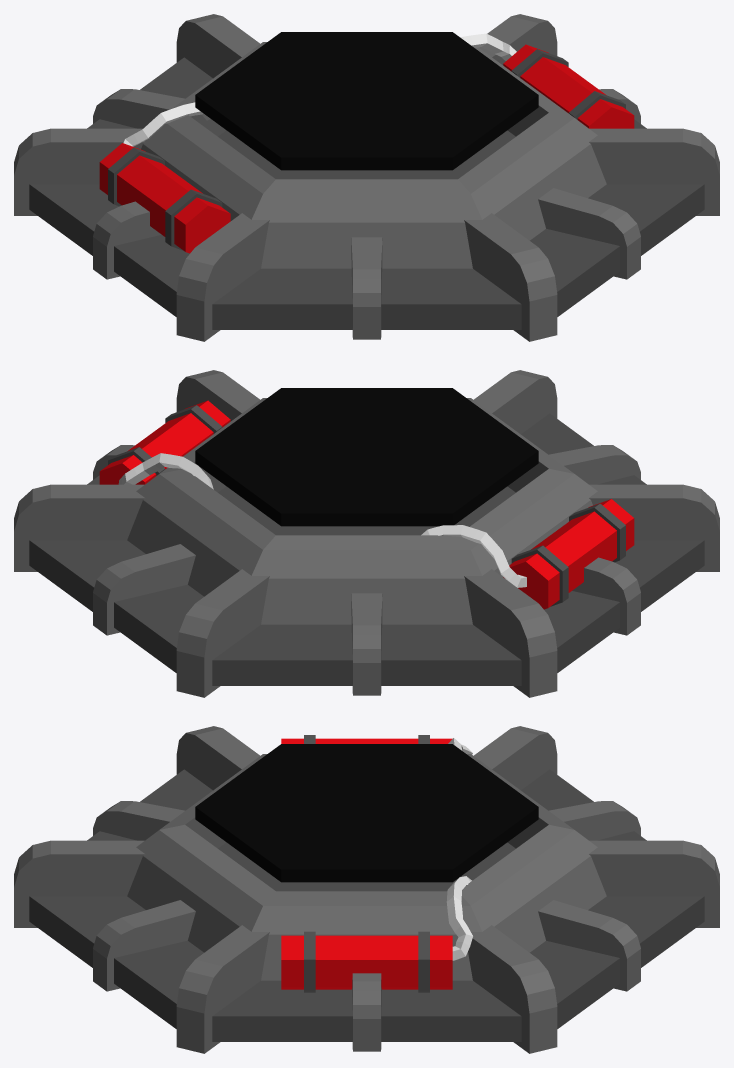
File: MineTower.fbx
3 renders of one model, top to bottom at view 1: azimuth 30°, elevation 25°; view 2: azimuth 150°, elevation 25°; view 3: azimuth 270°, elevation 25°, orthographic.
Parts seen in each view (by area): view 1: Cylinder.035, Cylinder.032; view 2: Cylinder.035, Cylinder.032; view 3: Cylinder.035, Cylinder.032.
Boxes of the visible parts, box(x1,y1,x2,y2) form: Cylinder.035: box(14, 14, 719, 341); Cylinder.032: box(195, 32, 538, 170); Cylinder.035: box(14, 370, 719, 697); Cylinder.032: box(195, 388, 538, 526); Cylinder.035: box(14, 726, 719, 1053); Cylinder.032: box(195, 744, 538, 882).
Bounding box in the file's own units: 136 × 27.29 × 153.
